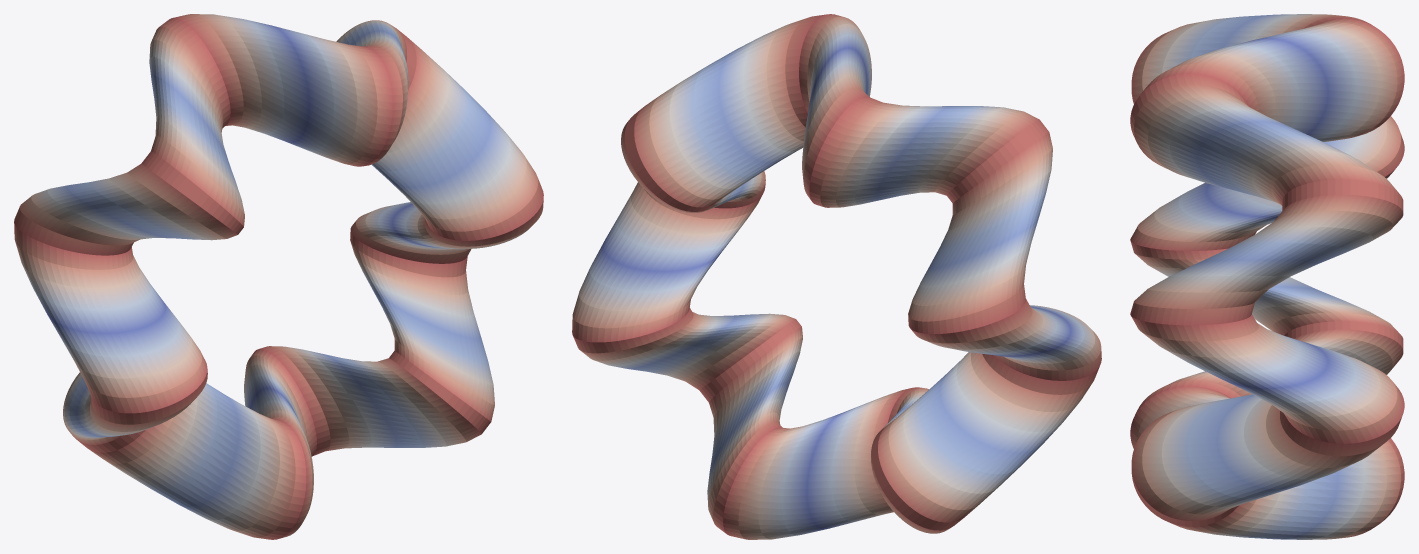
Rendered from step_18.glb.
3 views of the same model, side by side, from view 1: azimuth 30°, elevation 25°; view 2: azimuth 150°, elevation 25°; view 3: azimuth 270°, elevation 25° (orthographic).
Parts seen in each view (by area): view 1: world; view 2: world; view 3: world.
Part boxes in pixels (left/top/right/bottom): world: left=14, top=14, right=543, bottom=539; world: left=572, top=14, right=1101, bottom=539; world: left=1130, top=14, right=1404, bottom=539.
Bounding box in the file's own units: 26 × 26 × 13.55.
